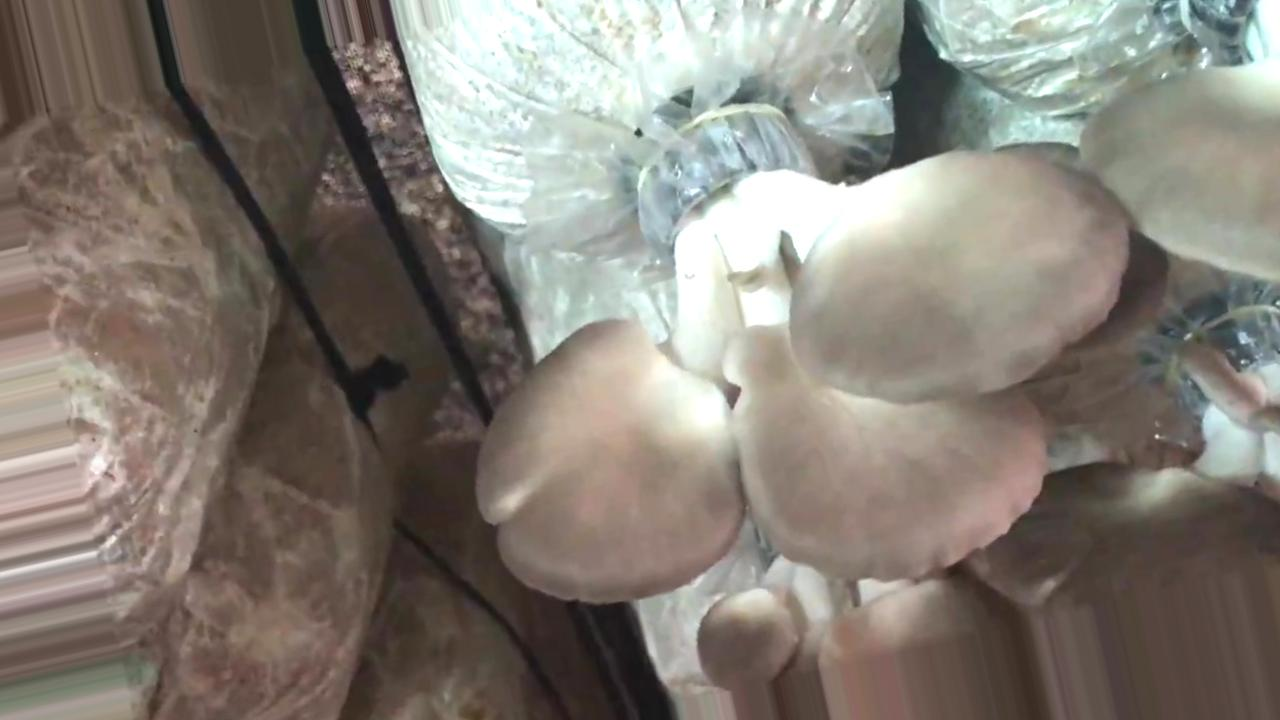nam: (475, 105, 1132, 606), (961, 300, 1280, 717), (692, 552, 1042, 720)
